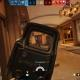Character: (40, 39, 42, 45)
Friend_label: (18, 38, 22, 41)
